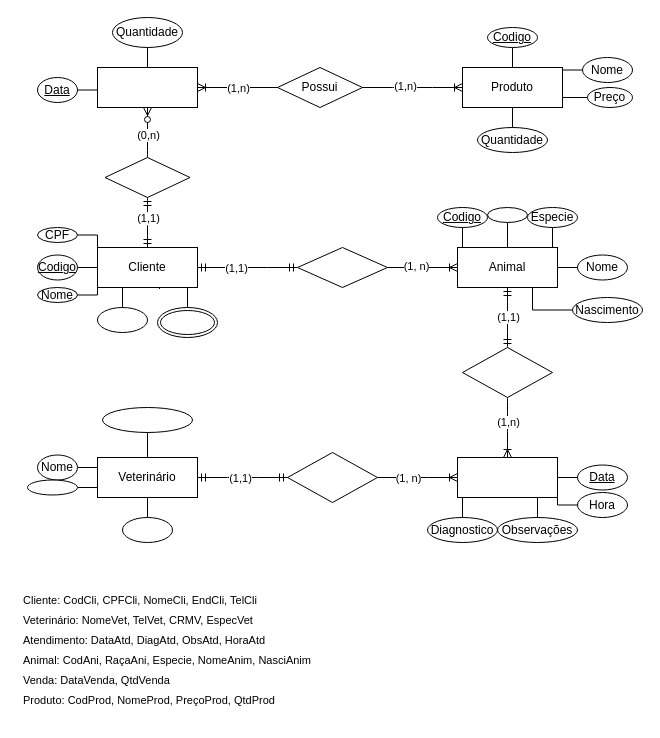
This 660x738 diagram has some shape labels left out. The shapes that lost their labels are listed below. From the top down, each one's box as (x1, y1, x2, y2) in pixels, then its label:
(96, 66, 198, 108): Venda
(104, 156, 190, 198): Faz
(486, 206, 528, 222): Raça
(296, 246, 388, 288): Pertence
(96, 306, 148, 332): Endereço
(156, 306, 218, 338): Telefones
(462, 346, 552, 398): Recebe
(102, 406, 192, 432): Especialidade
(26, 479, 78, 495): Telefone
(286, 452, 378, 502): Realiza
(456, 456, 558, 498): Atendimento
(122, 516, 172, 542): CRMV
